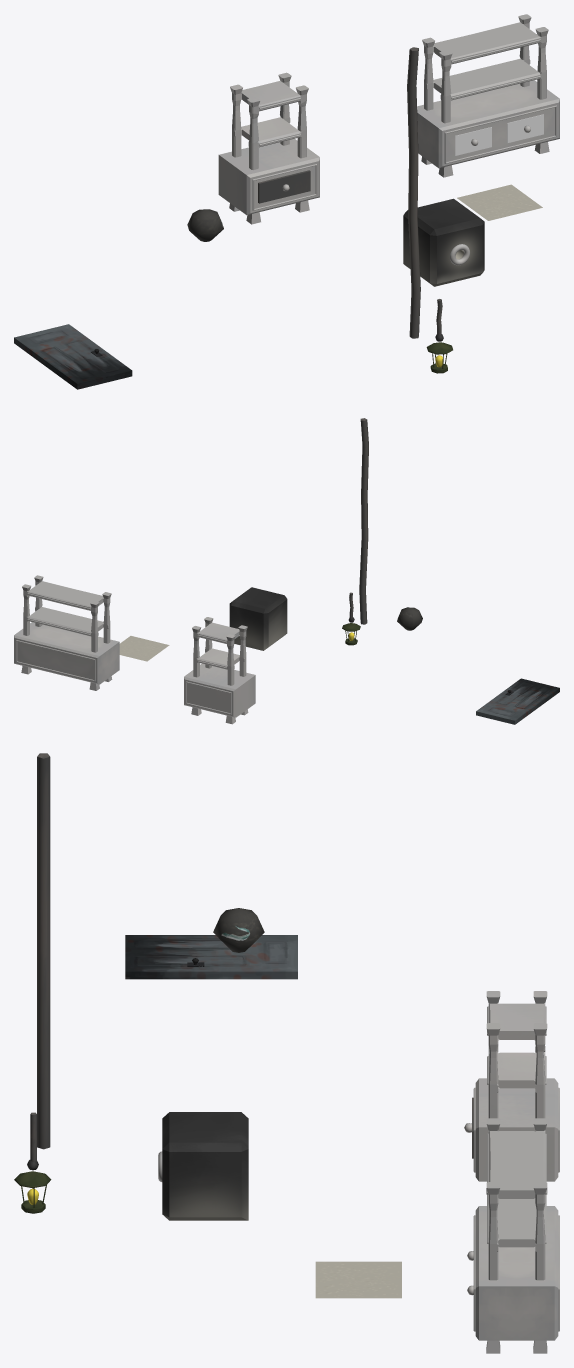
Rendered from decor1.FBX.
The picture shows the model from 3 angles, top to bottom: view 1: azimuth 30°, elevation 25°; view 2: azimuth 150°, elevation 25°; view 3: azimuth 270°, elevation 25°; orthographic projection. The views are drawn at different scales.
Visible parts, largest first — view 1: etagere002, etagere1, cube_rayon, Box001, long cylindre lampe, plafond, tiroir etagere 2, lanceur de lazer, tiroir etagere longue 2, tiroir etagere longue1; view 2: etagere002, etagere1, cube_rayon, Box001, long cylindre lampe, plafond, lanceur de lazer; view 3: etagere002, etagere1, cube_rayon, Box001, long cylindre lampe, plafond, lanceur de lazer.
Boxes of the visible parts, x1,y1,x2,y2 form: etagere002: (417, 14, 559, 177); etagere1: (218, 72, 319, 224); cube_rayon: (403, 198, 484, 286); Box001: (14, 324, 132, 389); long cylindre lampe: (407, 47, 420, 338); plafond: (457, 184, 542, 220); tiroir etagere 2: (258, 170, 310, 203); lanceur de lazer: (187, 209, 223, 241); tiroir etagere longue 2: (507, 114, 543, 143); tiroir etagere longue1: (455, 127, 491, 155); etagere002: (14, 575, 119, 690); etagere1: (184, 617, 255, 724); cube_rayon: (229, 587, 287, 650); Box001: (476, 678, 559, 724); long cylindre lampe: (359, 418, 368, 624); plafond: (119, 636, 169, 661); lanceur de lazer: (397, 607, 422, 630); etagere002: (473, 1118, 559, 1353); etagere1: (473, 991, 559, 1194); cube_rayon: (162, 1112, 248, 1220); Box001: (125, 935, 297, 979); long cylindre lampe: (37, 753, 50, 1149); plafond: (315, 1261, 401, 1298); lanceur de lazer: (213, 908, 264, 952).
Size of the model in its own units: 1115 by 562 by 633.
